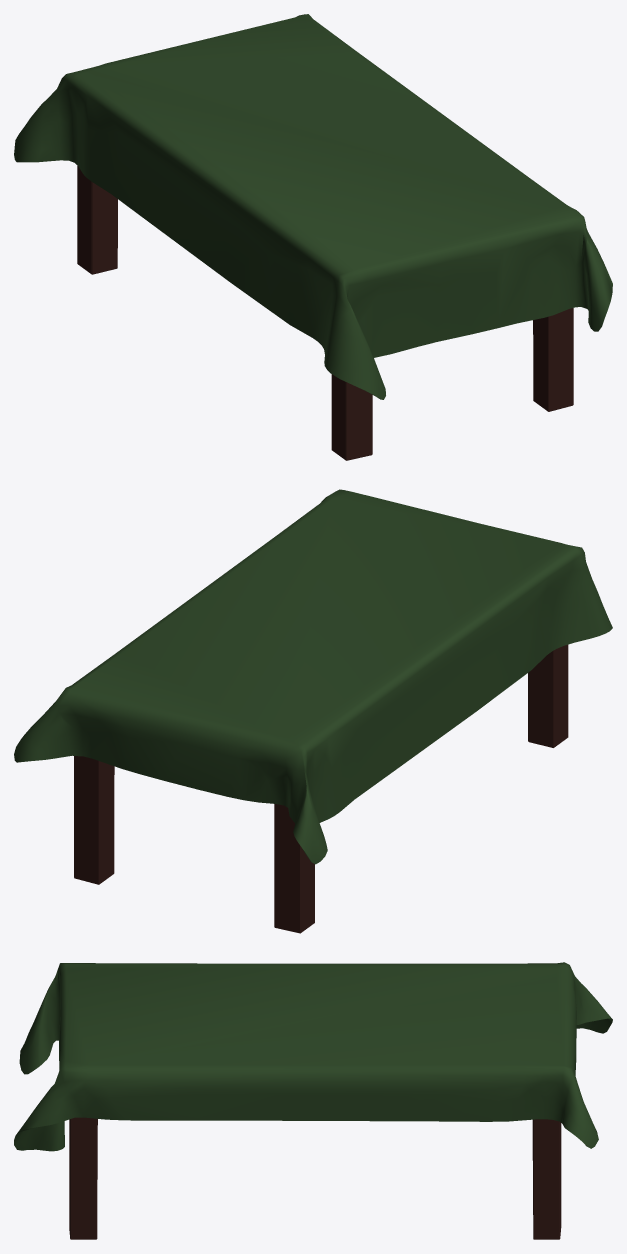
The model's file is Table.fbx.
3 renders of one model, top to bottom at view 1: azimuth 30°, elevation 25°; view 2: azimuth 150°, elevation 25°; view 3: azimuth 270°, elevation 25°, orthographic. The views are drawn at different scales.
Parts seen in each view (by area): view 1: TableCloth, Table; view 2: TableCloth, Table; view 3: TableCloth, Table.
Boxes of the visible parts, x1,y1,x2,y2 form: TableCloth: (14,14,612,399); Table: (77,165,573,460); TableCloth: (14,489,612,864); Table: (74,644,568,933); TableCloth: (14,962,612,1151); Table: (69,1117,561,1239).
Bounding box in the file's own units: 131 × 76.4 × 238.
